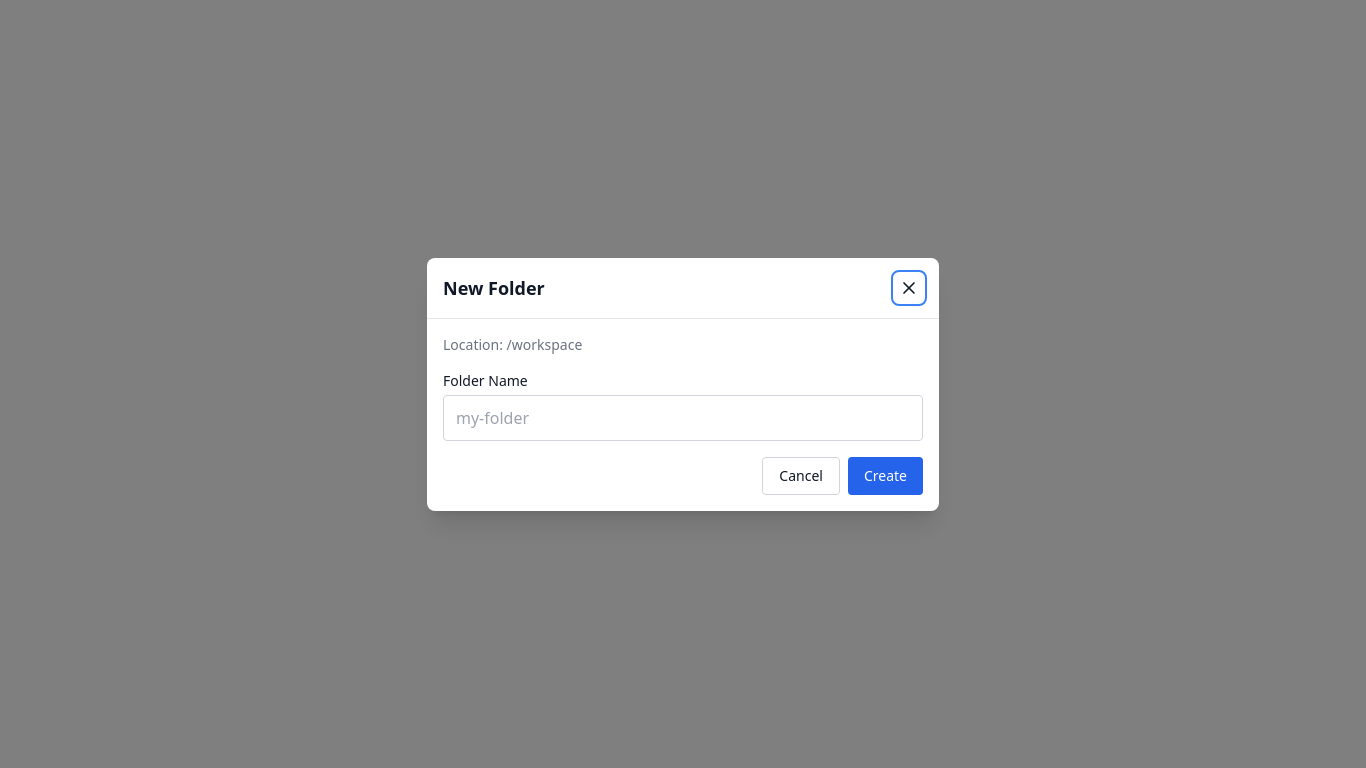
it: NewFolderDialog › shows error for invalid characters
Type "invalid/folder" into the field labelled "Folder Name".
click(683, 418); type("invalid/folder")  # box 443,394 -> 923,440
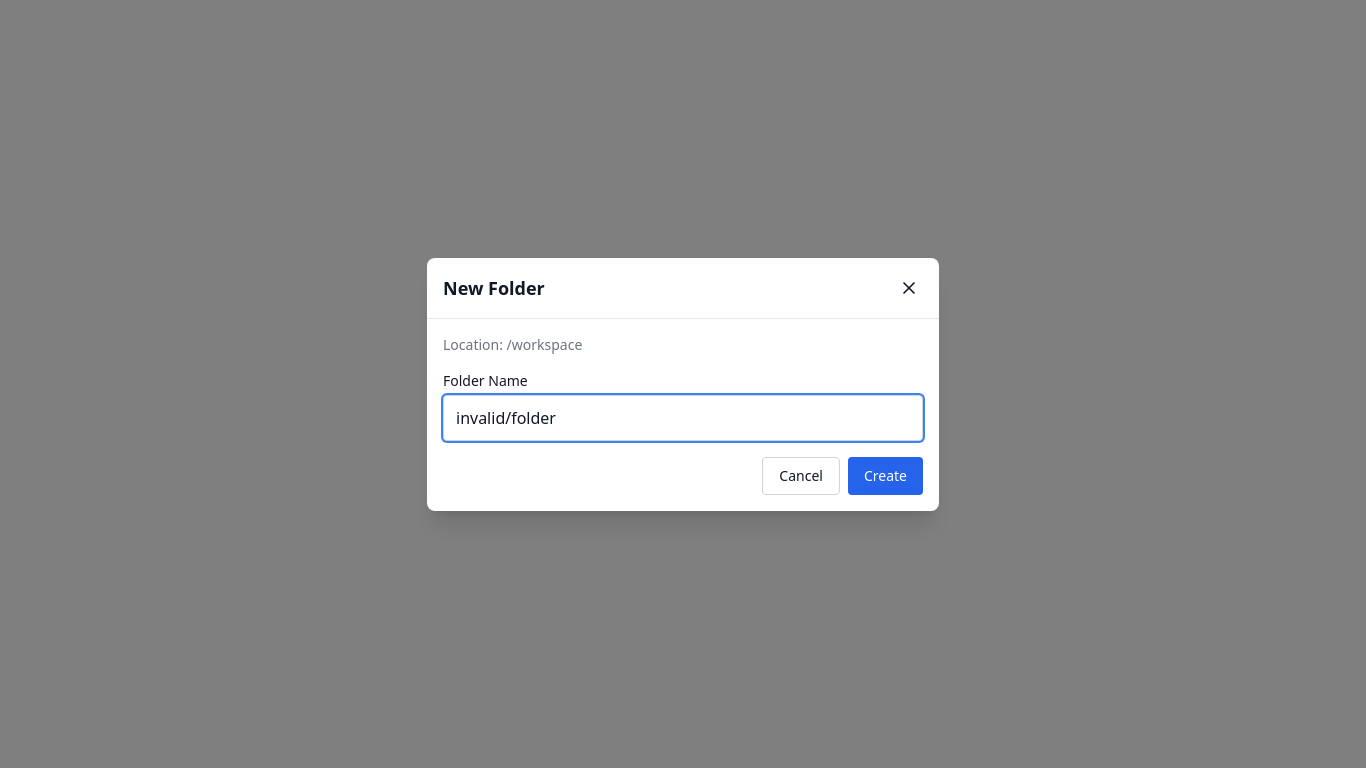
Click the button "Create".
click(885, 476)  # box 848,456 -> 923,494
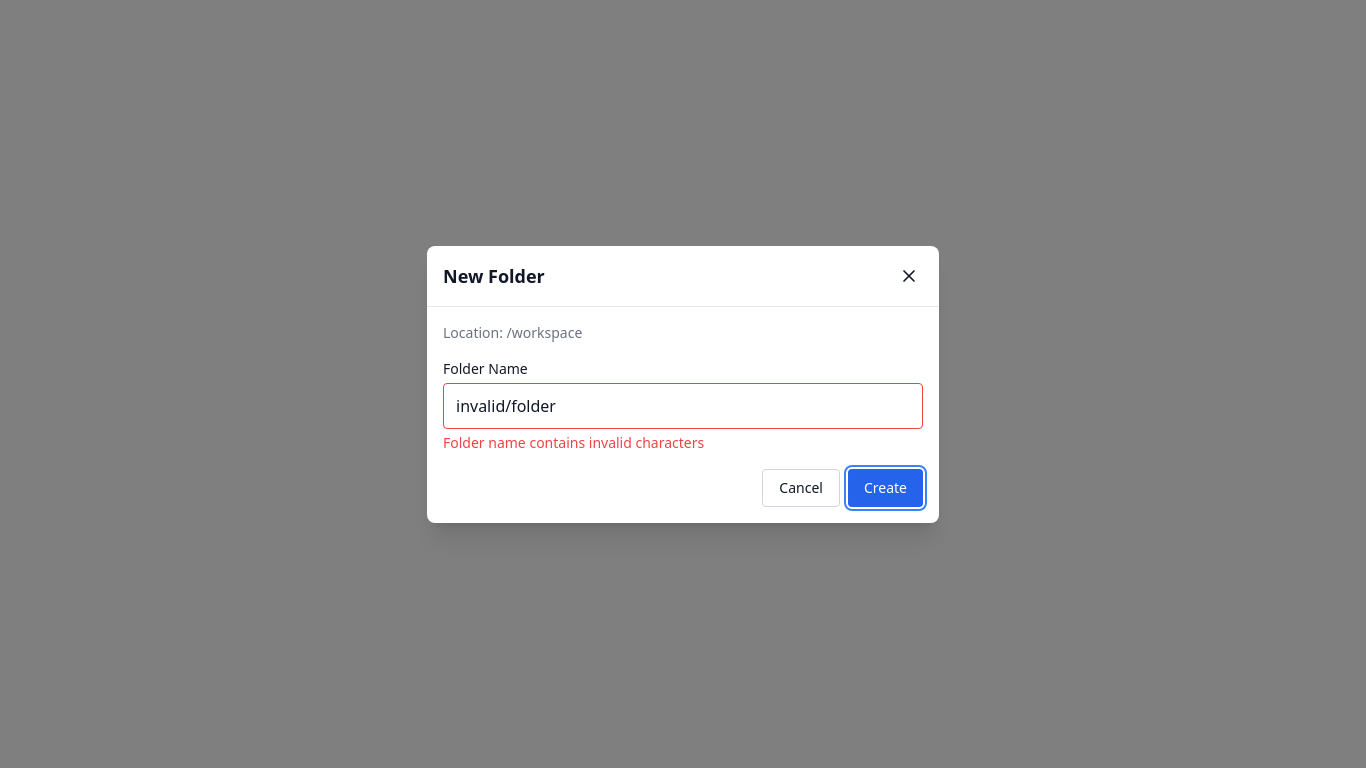
Check: the text "Folder name contains invalid characters" is shown, box 443,432 -> 704,452
